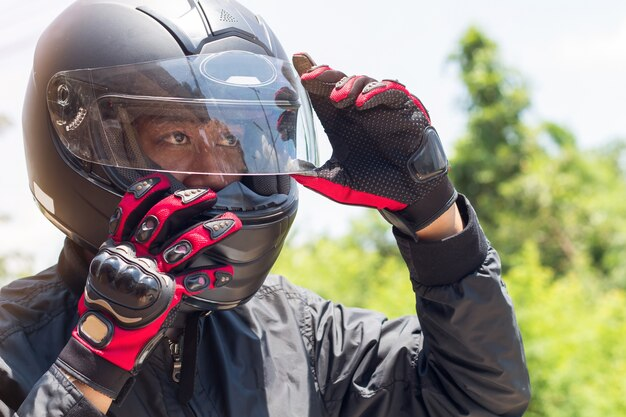helmets: (12, 0, 316, 333)
